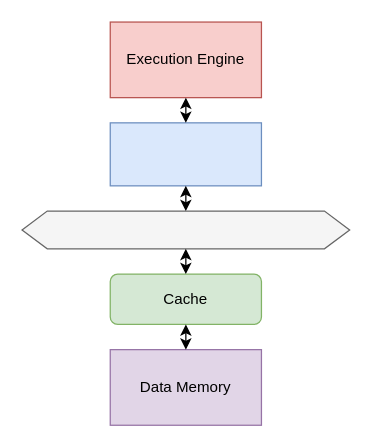
This 372x447 diagram has some shape labels left out. The shapes that lost their labels are listed below. From the top down, each one's centre as x and y in pixels, then its label:
At (185,154): "Load Store Unit".
At (185,229): "Bus".
